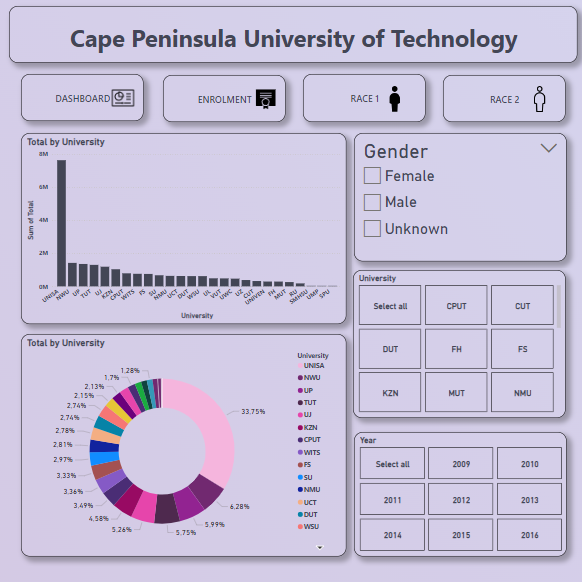

The dashboard page shown, as its layout file describes it:
{"tool":"powerbi","page":{"name":"Gender ","canvas":[1200,1200],"ordinal":4},"visuals":[{"type":"advancedSlicerVisual","fields":{"Values":["Gender.University "]},"box":[720,556,434,302],"z":0},{"type":"columnChart","title":"Total by University ","fields":{"Category":["Gender.University "],"Y":["Sum(Gender.Total)"]},"box":[42,276,664,390],"z":1000},{"type":"slicer","fields":{"Values":["Gender.Gender"]},"box":[722,276,434,262],"z":2000},{"type":"advancedSlicerVisual","fields":{"Values":["Gender.Year"]},"box":[722,886,434,254],"z":3000},{"type":"donutChart","title":"Total by University ","fields":{"Y":["Sum(Gender.Total)"],"Category":["Gender.University "]},"box":[42,686,664,454],"z":4000},{"type":"cardVisual","fields":{"Data":["Min(Gender.University Name )"]},"box":[18,16,1160,116],"z":5000},{"type":"actionButton","box":[42,156,250,96],"z":6000},{"type":"actionButton","box":[904,158,250,96],"z":7000},{"type":"actionButton","box":[618,156,250,98],"z":8000},{"type":"actionButton","box":[332,158,250,96],"z":9000},{"type":"image","box":[221.7,175,56.7,56.7],"z":9001},{"type":"image","box":[513.3,181.7,56.7,50],"z":9002},{"type":"image","box":[771.7,170,68.3,73.3],"z":9003},{"type":"image","box":[1066.7,166.7,68.3,78.3],"z":9004}]}

Visuals, with their boxes in screenshot pixels (x1, y1, x2, y2), scaled from the page's 1200x1200 canvas onto the 582x582 screenshot:
advancedSlicerVisual - Gender.University : (349, 270, 560, 416)
"Total by University " columnChart: (20, 134, 342, 323)
slicer - Gender.Gender: (350, 134, 561, 261)
advancedSlicerVisual - Gender.Year: (350, 430, 561, 553)
"Total by University " donutChart: (20, 333, 342, 553)
cardVisual - Min(Gender.University Name ): (9, 8, 571, 64)
actionButton: (20, 76, 142, 122)
actionButton: (438, 77, 560, 123)
actionButton: (300, 76, 421, 123)
actionButton: (161, 77, 282, 123)
image: (108, 85, 135, 112)
image: (249, 88, 276, 112)
image: (374, 82, 407, 118)
image: (517, 81, 550, 119)
